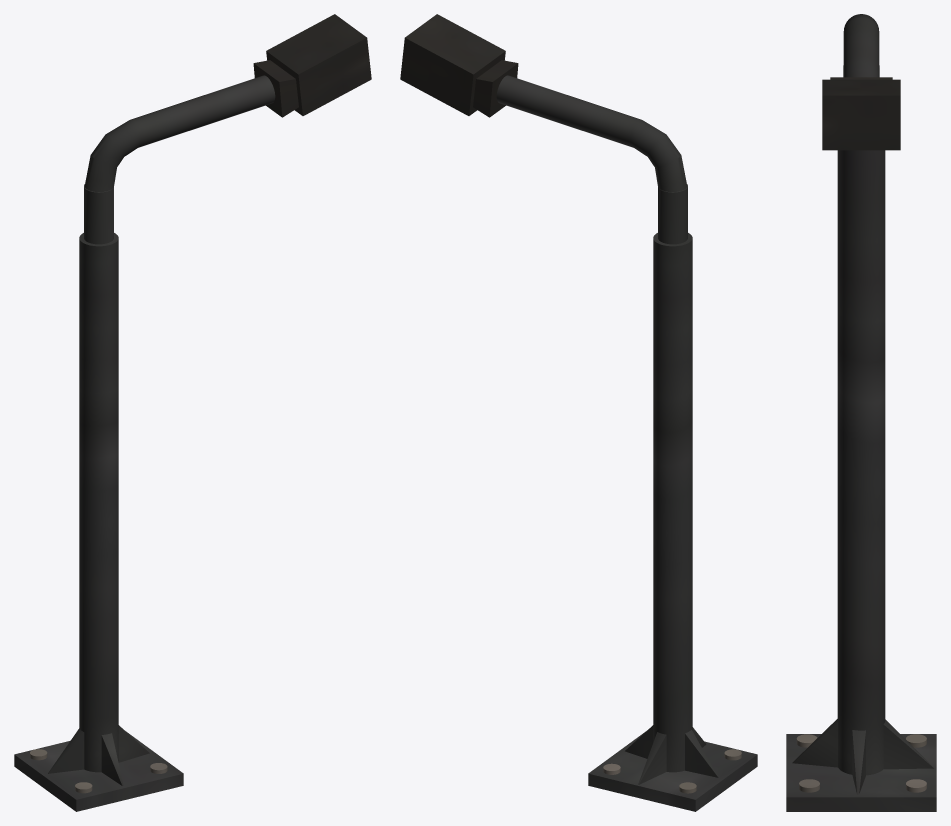
The model's file is sokak lambası uzun yeni.fbx.
The picture shows the model from 3 angles, left to right: view 1: azimuth 30°, elevation 25°; view 2: azimuth 150°, elevation 25°; view 3: azimuth 270°, elevation 25°; orthographic projection. The views are drawn at different scales.
Visible parts, largest first — view 1: Plane.001; view 2: Plane.001; view 3: Plane.001.
Part boxes in pixels (box(x1,y1,x2,y2)): Plane.001: box(14, 14, 371, 811); Plane.001: box(400, 14, 757, 811); Plane.001: box(786, 14, 936, 811).
Bounding box in the file's own units: 159 × 338 × 55.18.
Materials: 1 (1 with a texture image).
